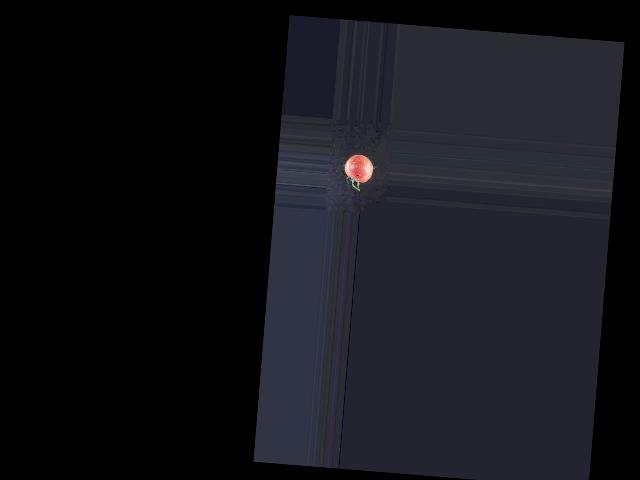tomato: (344, 153, 374, 183)
